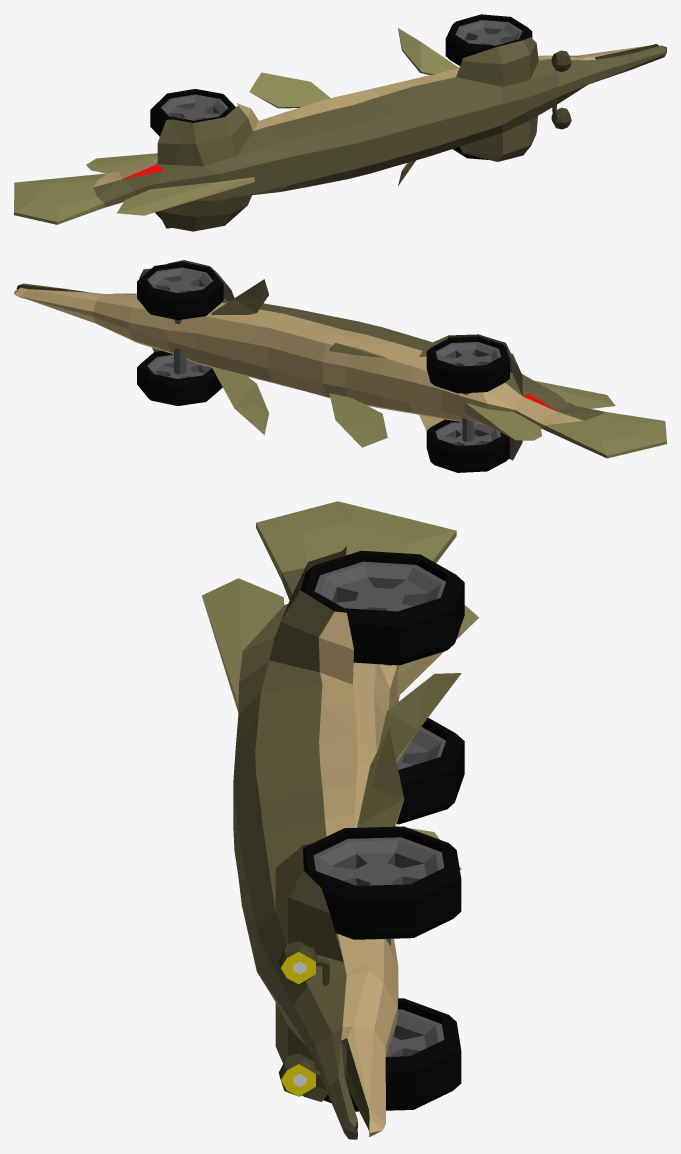
The model's file is GarDrip.glb.
3 views of the same model, one above another, from view 1: azimuth 30°, elevation 25°; view 2: azimuth 150°, elevation 25°; view 3: azimuth 270°, elevation 25° (orthographic). The views are drawn at different scales.
Parts seen in each view (by area): view 1: GarDrip; view 2: GarDrip; view 3: GarDrip.
Part boxes in pixels (bbox=[...]): GarDrip: bbox=[14, 14, 666, 231]; GarDrip: bbox=[14, 260, 666, 472]; GarDrip: bbox=[201, 501, 478, 1139].
Size of the model in its own units: 0.9018 by 0.2085 by 0.1679.
1 material, 1 textured.
